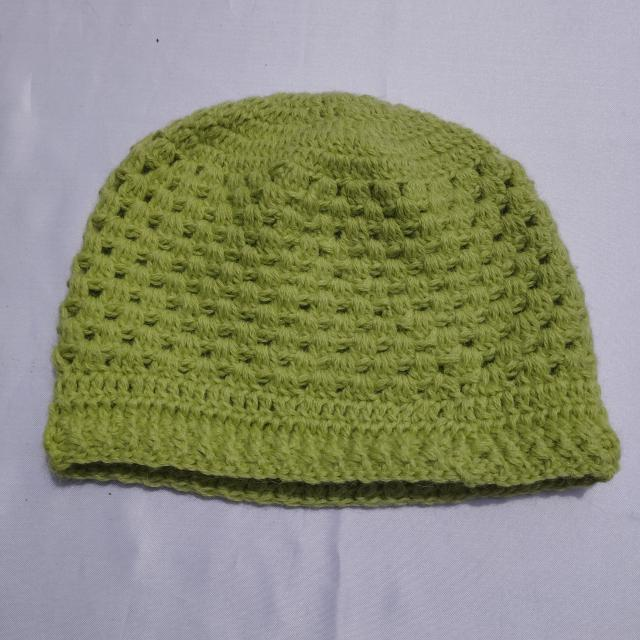Gorro: (42, 90, 622, 508)
